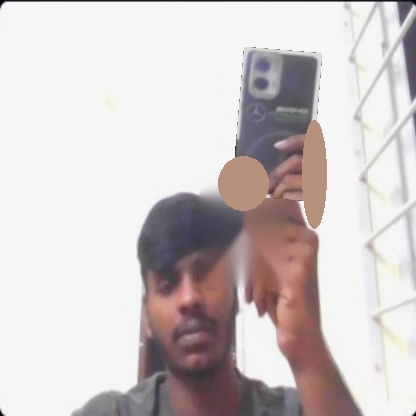cell_phone: (231, 46, 322, 201)
